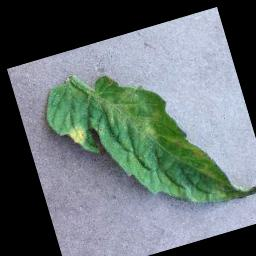Leaf_Mold: (64, 123, 89, 149)
